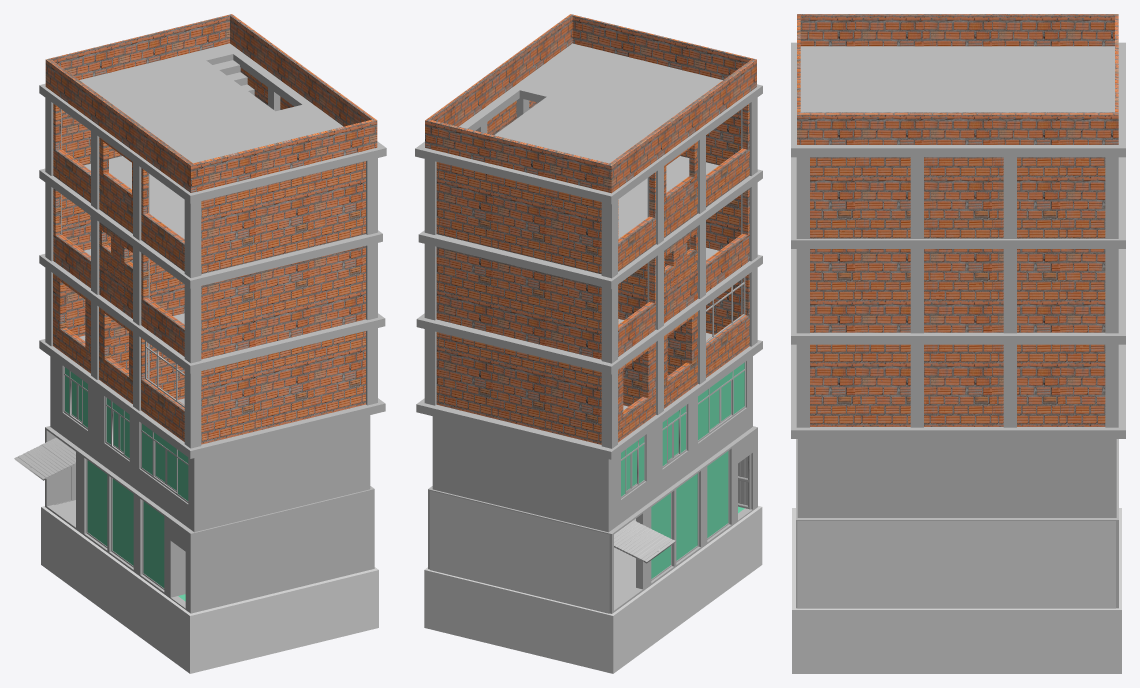
The model's file is CASA 31.fbx.
3 renders of one model, left to right at view 1: azimuth 30°, elevation 25°; view 2: azimuth 150°, elevation 25°; view 3: azimuth 270°, elevation 25°, orthographic. The views are drawn at different scales.
Parts seen in each view (by area): view 1: CASA31_LOD0, Cube_LOD0, UTM_CASA31; view 2: CASA31_LOD0, Cube_LOD0, OCC_Oclusion1, UTM_CASA31; view 3: CASA31_LOD0, OCC_Oclusion2, Cube_LOD0.
Part boxes in pixels (<box>): CASA31_LOD0: <box>14,14,386,613</box>; Cube_LOD0: <box>41,506,378,673</box>; UTM_CASA31: <box>65,367,188,601</box>; CASA31_LOD0: <box>415,14,762,613</box>; Cube_LOD0: <box>424,506,762,673</box>; OCC_Oclusion1: <box>430,490,609,613</box>; UTM_CASA31: <box>621,362,744,578</box>; CASA31_LOD0: <box>791,14,1125,608</box>; OCC_Oclusion2: <box>797,521,1115,608</box>; Cube_LOD0: <box>792,508,1121,673</box>.
Size of what is drawn, in the model's own units: 818 by 1748 by 947.
